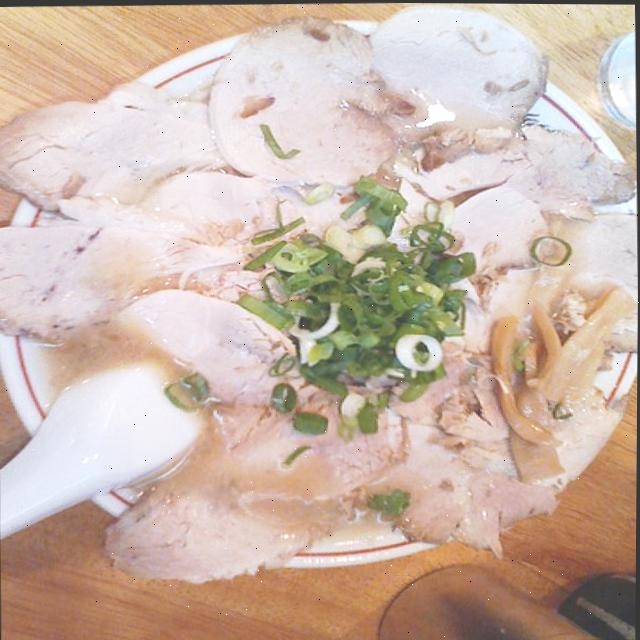面条主食: (6, 20, 633, 562)
